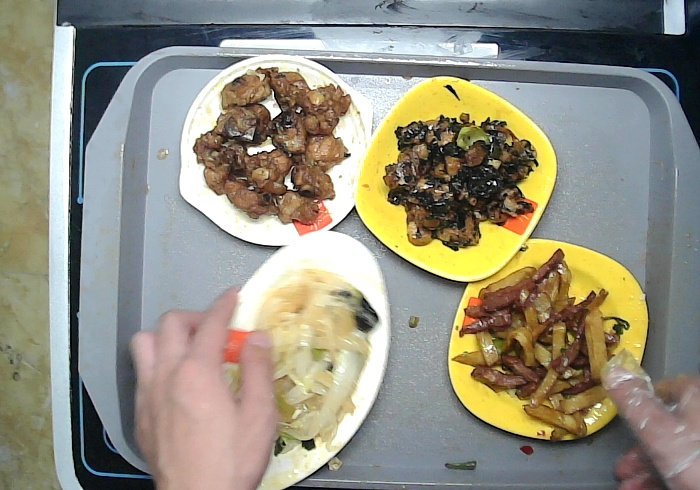SHKJ-Bao_Yu_Pan: (177, 53, 376, 246)
SHKJ-Huang_Se_Cai_Die: (352, 74, 559, 283)
SHKJ-Huang_Se_Si_Fang_Cai_Die: (445, 237, 651, 440)
SHKJ-Yu_Pan: (200, 230, 390, 490)
